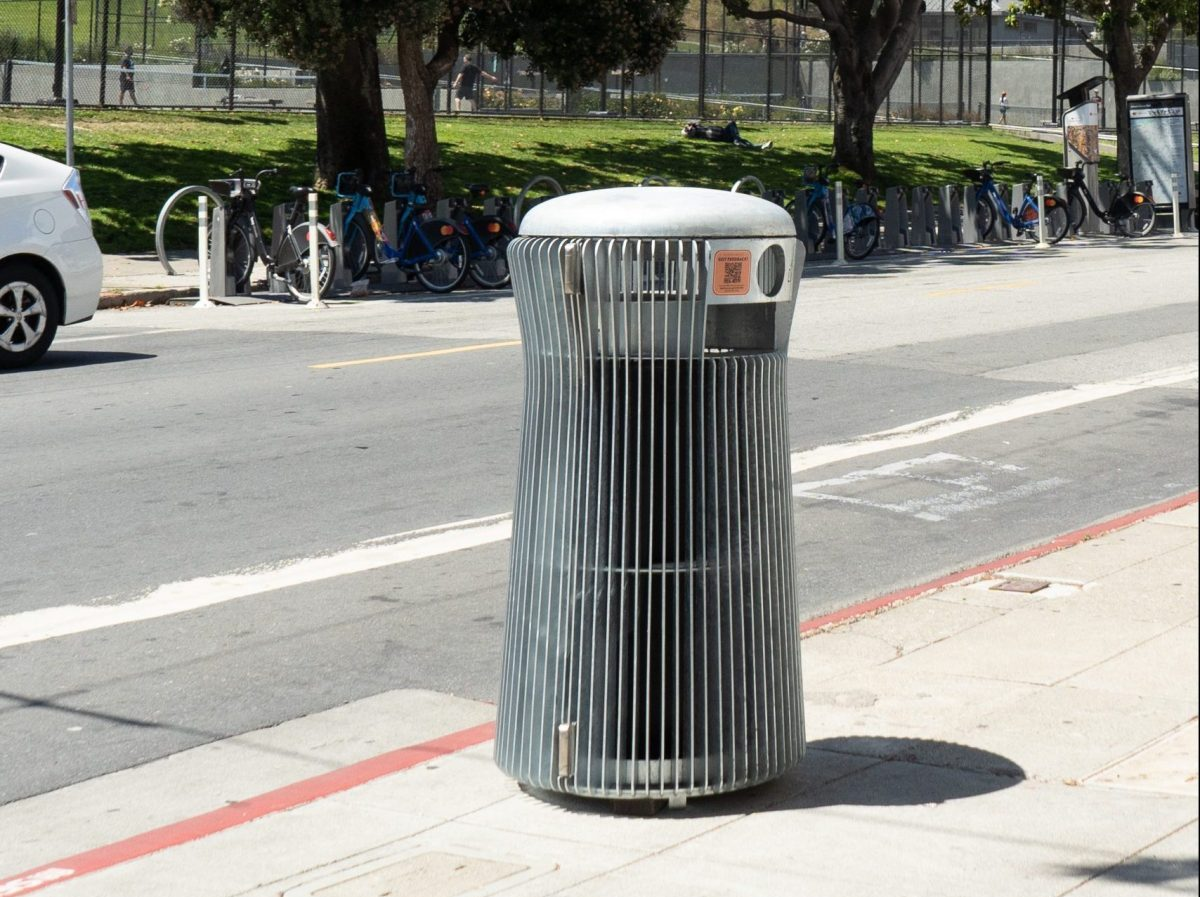TrashBin: (487, 143, 842, 822)
